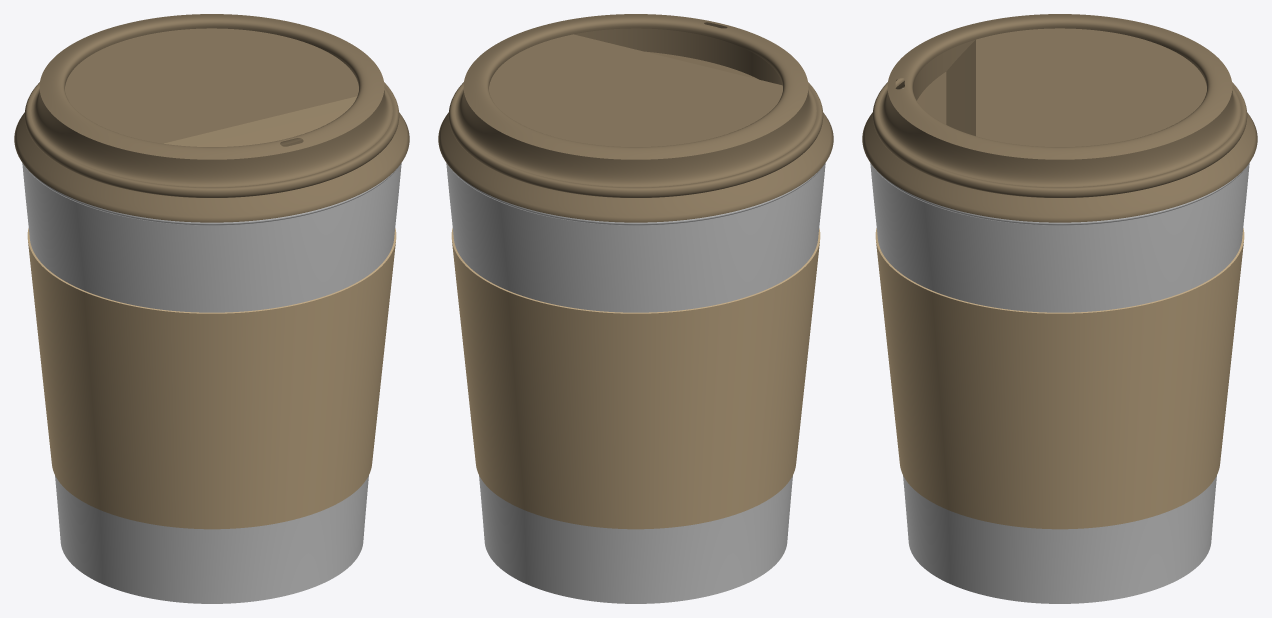
The model's file is cup of coffee OBJ.fbx.
The picture shows the model from 3 angles, left to right: view 1: azimuth 30°, elevation 25°; view 2: azimuth 150°, elevation 25°; view 3: azimuth 270°, elevation 25°; orthographic projection.
Parts seen in each view (by area): view 1: papel térmico, tapilla, tkawaycupcoffee; view 2: papel térmico, tapilla, tkawaycupcoffee; view 3: papel térmico, tapilla, tkawaycupcoffee.
Part boxes in pixels (x1,y1,x2,y2): papel térmico: [27, 228, 396, 529]; tapilla: [14, 14, 409, 222]; tkawaycupcoffee: [22, 163, 401, 603]; papel térmico: [451, 228, 820, 529]; tapilla: [438, 14, 833, 222]; tkawaycupcoffee: [446, 163, 825, 603]; papel térmico: [875, 228, 1244, 529]; tapilla: [862, 14, 1257, 222]; tkawaycupcoffee: [870, 163, 1249, 603].
Size of the model in its own units: 94 by 94 by 120.
